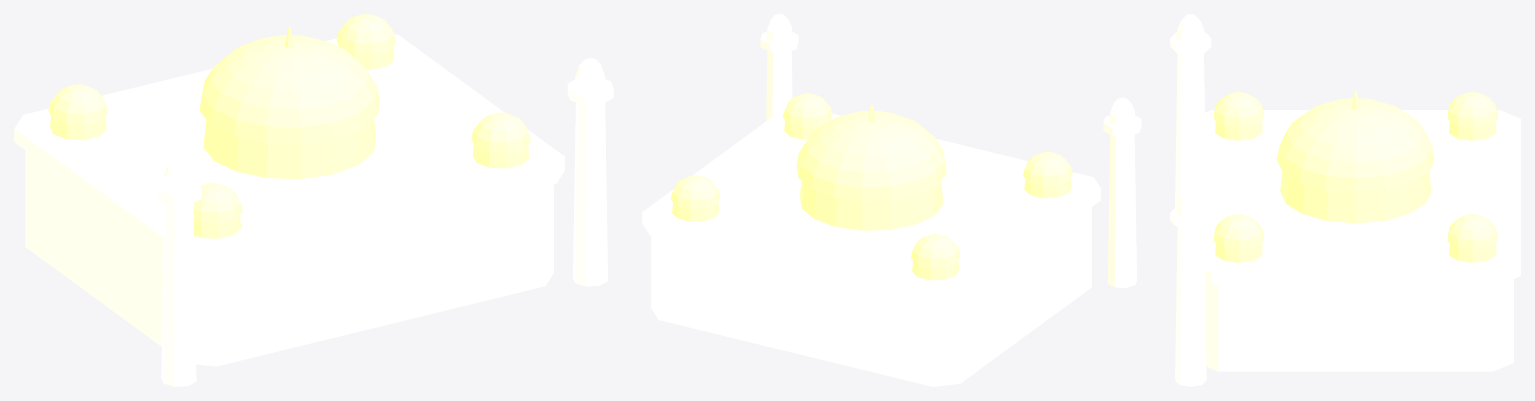
The model's file is sultan-mosque.glb.
3 renders of one model, left to right at view 1: azimuth 30°, elevation 25°; view 2: azimuth 150°, elevation 25°; view 3: azimuth 270°, elevation 25°, orthographic. The views are drawn at different scales.
Parts seen in each view (by area): view 1: hall, parapet, dome, minarets, corner-domes, drum; view 2: hall, parapet, dome, minarets, corner-domes, drum; view 3: parapet, hall, dome, minarets, corner-domes, drum.
Boxes of the visible parts, x1=… form: hall: x1=25, y1=150, x2=553, y2=366; parapet: x1=14, y1=34, x2=564, y2=267; dome: x1=199, y1=35, x2=379, y2=143; minarets: x1=156, y1=58, x2=613, y2=386; corner-domes: x1=48, y1=14, x2=530, y2=238; drum: x1=203, y1=119, x2=375, y2=178; hall: x1=651, y1=207, x2=1091, y2=386; parapet: x1=642, y1=110, x2=1100, y2=304; dome: x1=796, y1=110, x2=946, y2=201; minarets: x1=760, y1=14, x2=1141, y2=287; corner-domes: x1=670, y1=93, x2=1072, y2=280; drum: x1=799, y1=181, x2=943, y2=230; parapet: x1=1190, y1=110, x2=1520, y2=284; hall: x1=1205, y1=279, x2=1513, y2=371; dome: x1=1276, y1=98, x2=1434, y2=192; minarets: x1=1170, y1=14, x2=1211, y2=386; corner-domes: x1=1214, y1=92, x2=1497, y2=262; drum: x1=1280, y1=172, x2=1431, y2=223.
Bounding box in the file's own units: 66 × 32.32 × 51.
